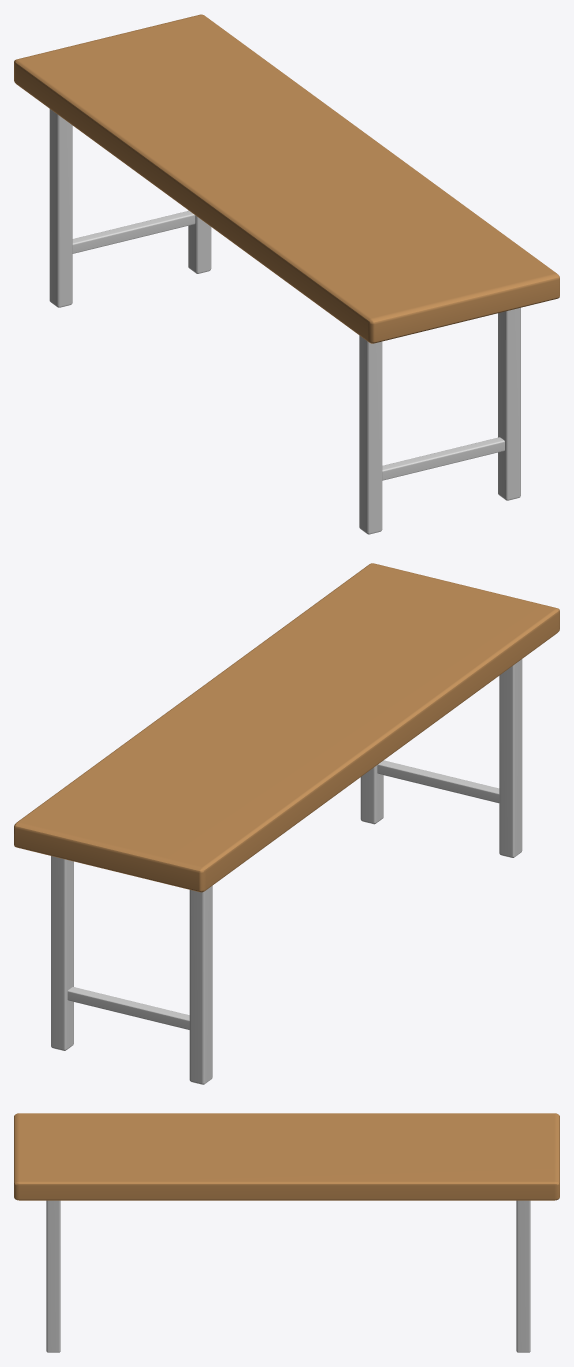
File: long desk.fbx
3 views of the same model, one above another, from view 1: azimuth 30°, elevation 25°; view 2: azimuth 150°, elevation 25°; view 3: azimuth 270°, elevation 25° (orthographic). The views are drawn at different scales.
Parts seen in each view (by area): view 1: pasted__pCube11, pasted__pasted__pCube12 (×2), pasted__pCube12, pasted__pasted__pCube13, pasted__pCube13, pasted__pasted__pasted__pCube12; view 2: pasted__pCube11, pasted__pasted__pCube12 (×2), pasted__pCube12, pasted__pasted__pasted__pCube12, pasted__pasted__pCube13, pasted__pCube13; view 3: pasted__pCube11, pasted__pasted__pasted__pCube12, pasted__pasted__pCube12.
Part boxes in pixels (x1,y1,x2,y2): pasted__pCube11: (14,14,559,343); pasted__pasted__pCube12 (×2): (49,109,520,500); pasted__pCube12: (359,335,382,534); pasted__pasted__pCube13: (72,210,195,253); pasted__pCube13: (382,437,504,480); pasted__pasted__pasted__pCube12: (188,215,211,273); pasted__pCube11: (14,563,559,892); pasted__pasted__pCube12 (×2): (189,765,383,1084); pasted__pCube12: (499,659,522,857); pasted__pasted__pasted__pCube12: (51,856,73,1050); pasted__pasted__pCube13: (67,987,189,1029); pasted__pCube13: (377,760,499,803); pasted__pCube11: (14,1113,559,1200); pasted__pasted__pasted__pCube12: (516,1200,530,1352); pasted__pasted__pCube12: (46,1200,60,1352).
Bounding box in the file's own units: 1.2 × 1.41 × 3.93.
